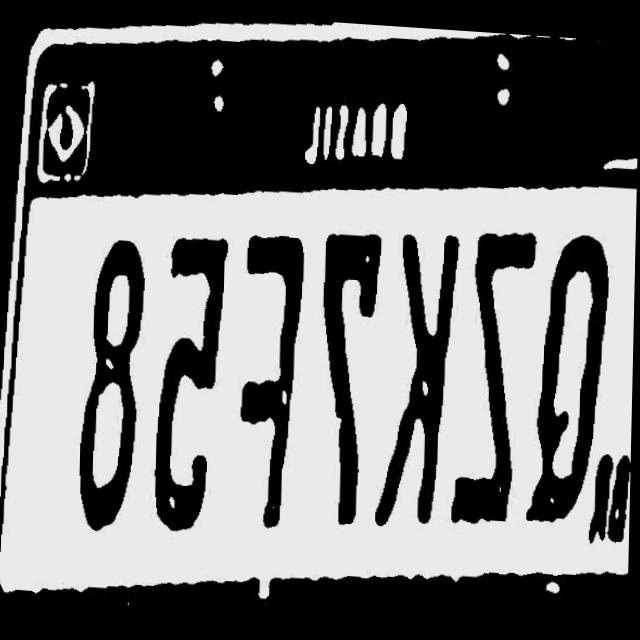5: (154, 231, 231, 534)
7: (319, 226, 383, 522)
8: (79, 235, 148, 533)
f: (241, 229, 306, 526)
k: (376, 223, 459, 525)
q: (528, 223, 614, 518)
z: (456, 221, 536, 520)
